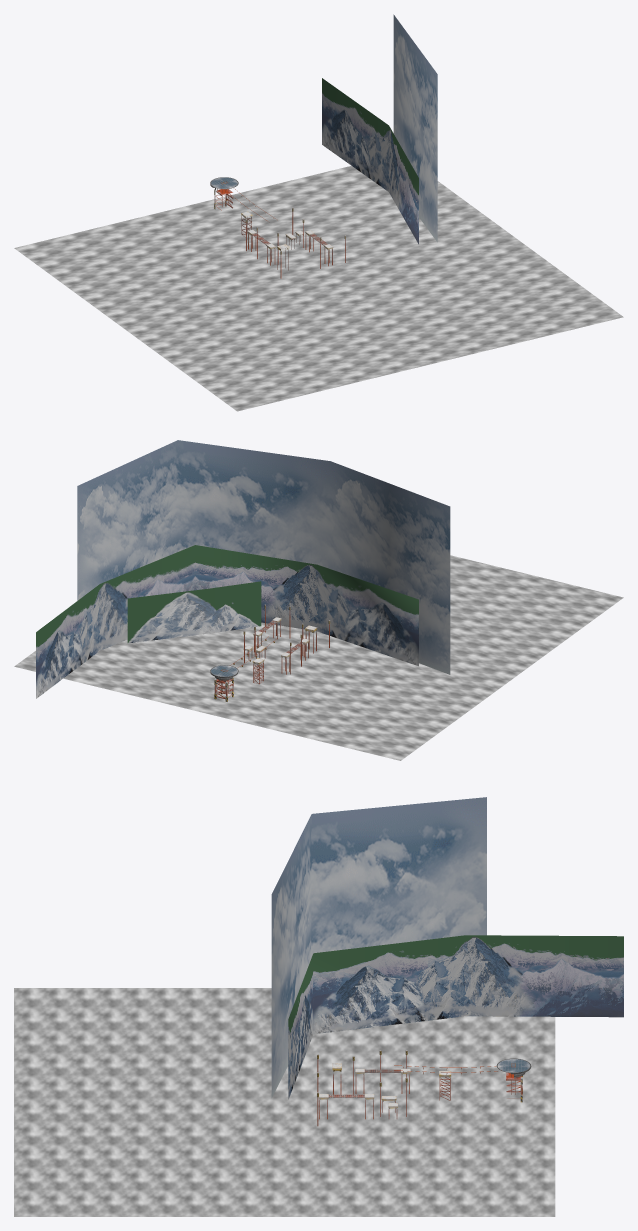
Rendered from EnvironmentE.glb.
3 views of the same model, one above another, from view 1: azimuth 30°, elevation 25°; view 2: azimuth 150°, elevation 25°; view 3: azimuth 270°, elevation 25° (orthographic). The views are drawn at different scales.
Visible parts, largest first — view 1: EnvironmentE_Original; view 2: EnvironmentE_Original, BigPlace shadow; view 3: EnvironmentE_Original, BigPlace shadow.
Part boxes in pixels (box(x1,y1,x2,y2)): EnvironmentE_Original: box(14, 14, 623, 411); EnvironmentE_Original: box(14, 440, 623, 760); BigPlace shadow: box(210, 665, 238, 701); EnvironmentE_Original: box(14, 797, 623, 1216); BigPlace shadow: box(496, 1058, 531, 1102).
Size of the model in its own units: 206 by 95.94 by 232.
Materials: 2 (2 with a texture image).
